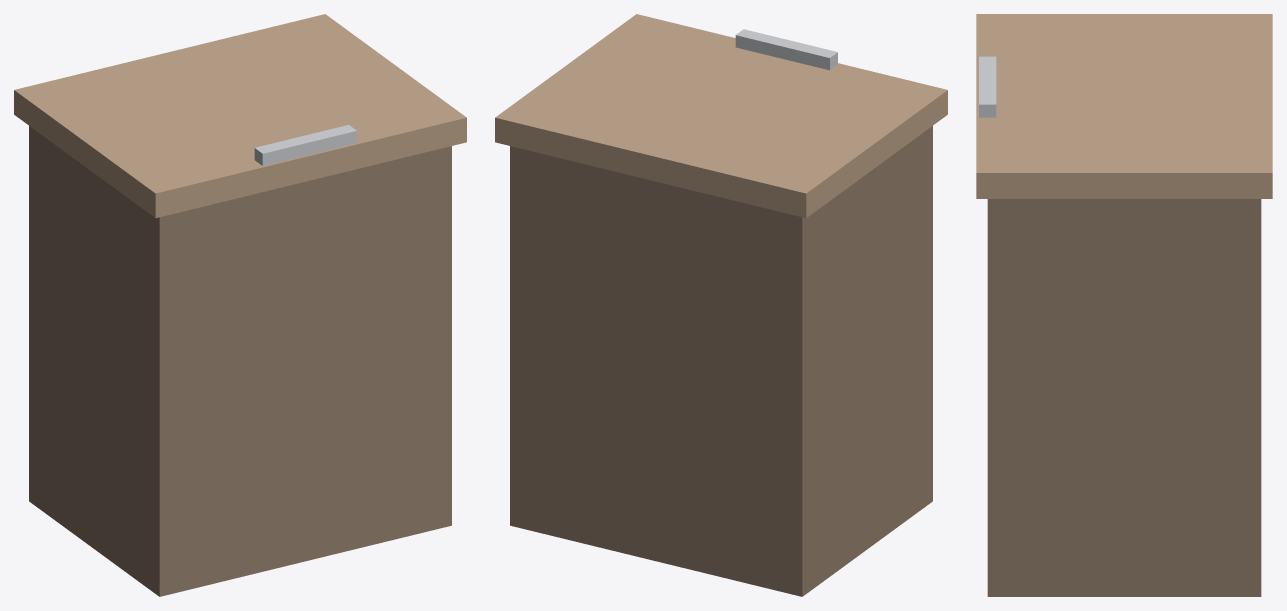
File: feed-bin.glb
3 views of the same model, side by side, from view 1: azimuth 30°, elevation 25°; view 2: azimuth 150°, elevation 25°; view 3: azimuth 270°, elevation 25° (orthographic). The views are drawn at different scales.
Visible parts, largest first — view 1: feed-bin; view 2: feed-bin; view 3: feed-bin.
Part boxes in pixels (box(x1,y1,x2,y2)): feed-bin: box(14, 14, 466, 596); feed-bin: box(495, 14, 947, 596); feed-bin: box(976, 14, 1272, 596).
Bounding box in the file's own units: 0.66 × 0.855 × 0.5201.
